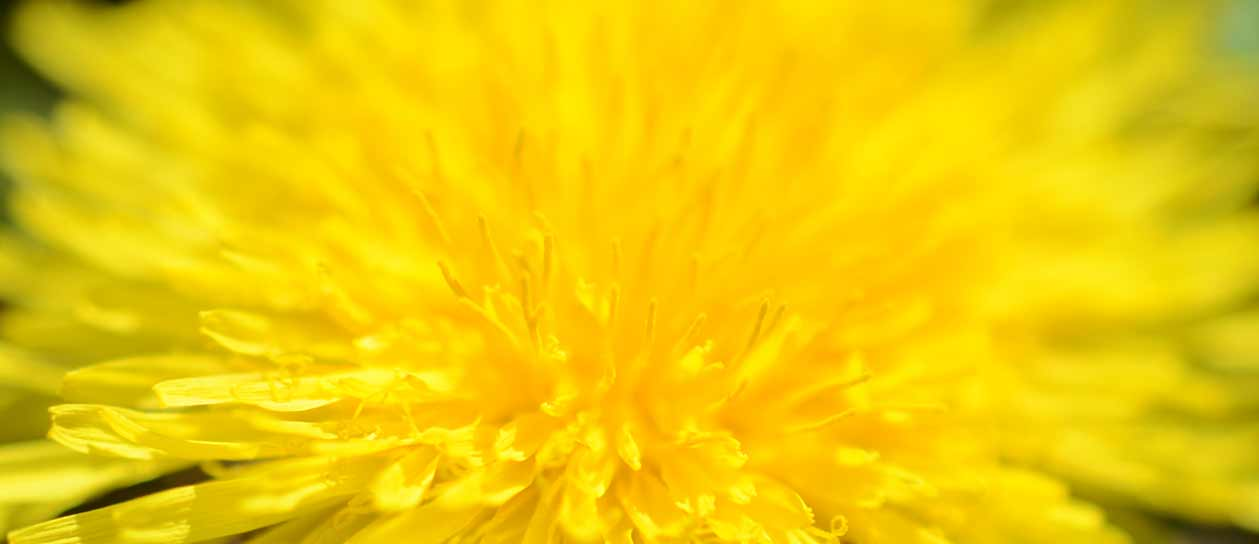dandelion: (5, 12, 1249, 544)
